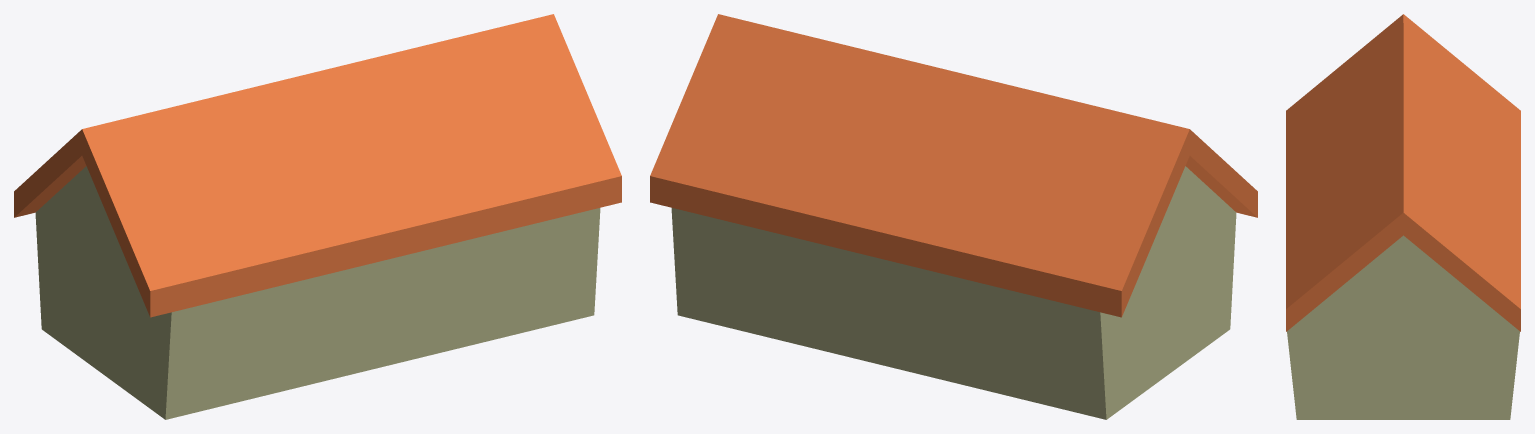
File: Farm.glb
3 views of the same model, side by side, from view 1: azimuth 30°, elevation 25°; view 2: azimuth 150°, elevation 25°; view 3: azimuth 270°, elevation 25° (orthographic). The views are drawn at different scales.
Visible parts, largest first — view 1: Farm; view 2: Farm; view 3: Farm.
Boxes of the visible parts, x1,y1,x2,y2 form: Farm: (14,14,621,419); Farm: (650,14,1257,419); Farm: (1286,14,1520,419).
Size of the model in its own units: 4.4 by 2.24 by 2.2.
